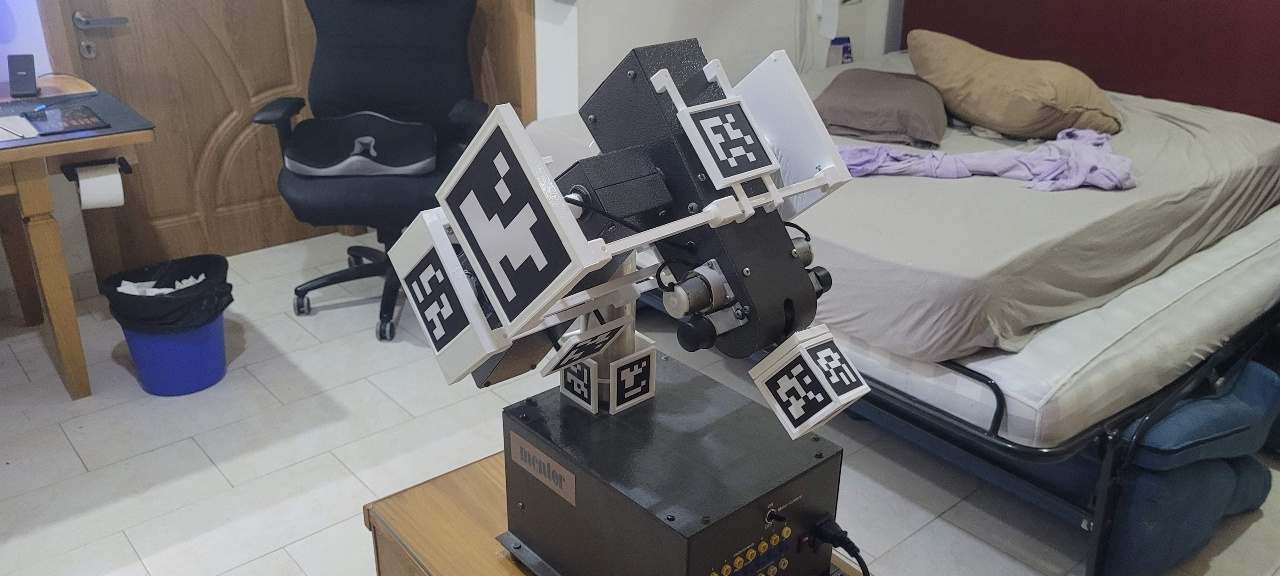Robot: (387, 37, 874, 442)
